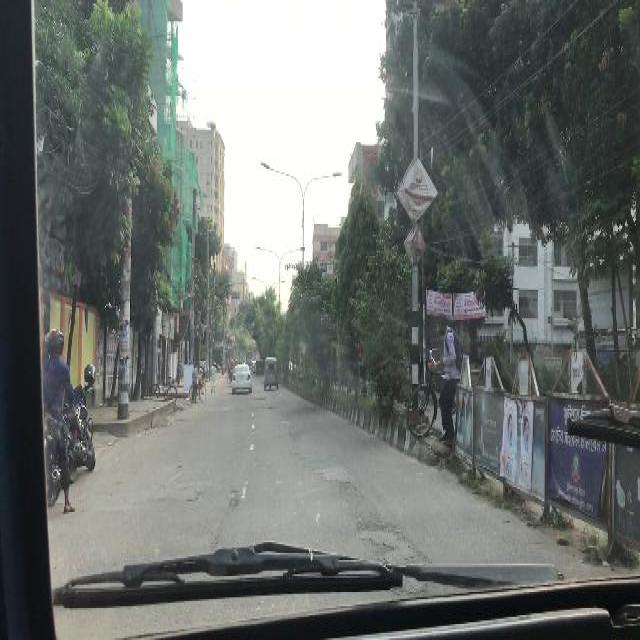10: (44, 372, 98, 503)
17: (263, 356, 277, 388), (255, 358, 262, 372)
5: (230, 364, 252, 390)
Motorcycle: (403, 348, 445, 434), (150, 372, 177, 400), (186, 380, 206, 402)
